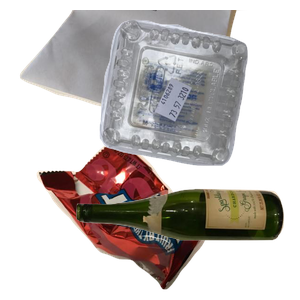glass: (74, 186, 300, 300)
paper: (17, 10, 254, 141)
plastic: (97, 17, 300, 176)
trash: (34, 136, 253, 300)
